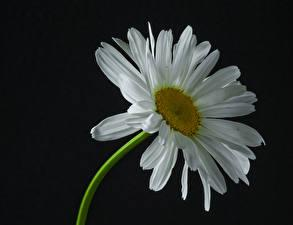chamomile: (100, 38, 260, 194)
